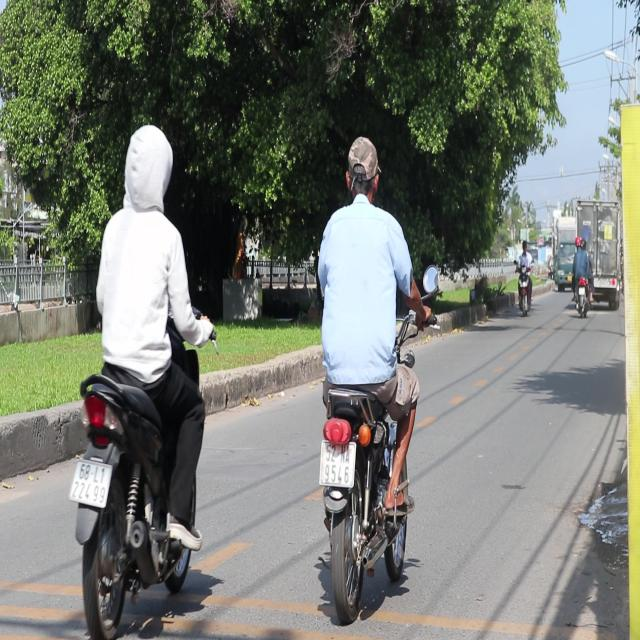helmet: (122, 123, 175, 214)
licenseplate: (65, 122, 214, 638), (306, 134, 428, 620)
motorcyclist: (344, 135, 381, 205)
nohelmet: (70, 459, 112, 506), (319, 443, 356, 487)
